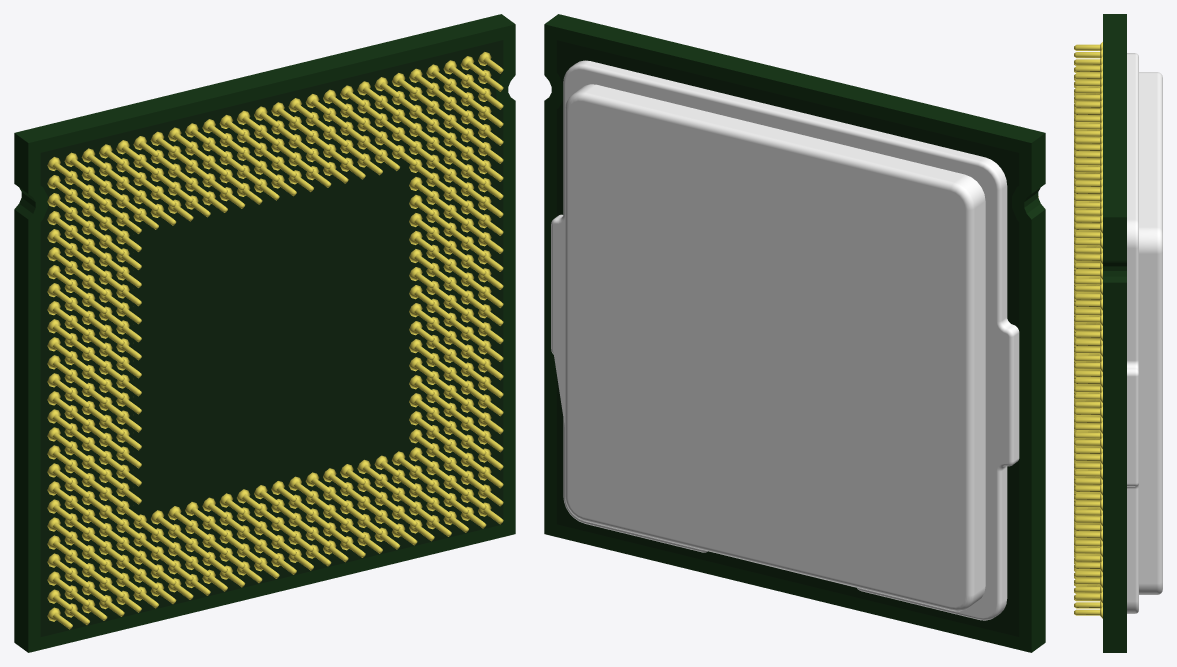
File: Chip.fbx
The picture shows the model from 3 angles, left to right: view 1: azimuth 30°, elevation 25°; view 2: azimuth 150°, elevation 25°; view 3: azimuth 270°, elevation 25°; orthographic projection. The views are drawn at different scales.
Visible parts, largest first — view 1: Cube.008, Cube.005; view 2: Cube.007, Cube.008; view 3: Cube.007, Cube.005, Cube.008.
Part boxes in pixels (bbox=[...]): Cube.008: bbox=[14, 14, 515, 652]; Cube.005: bbox=[47, 52, 503, 629]; Cube.007: bbox=[551, 60, 1019, 620]; Cube.008: bbox=[544, 14, 1045, 652]; Cube.007: bbox=[1127, 53, 1162, 613]; Cube.005: bbox=[1074, 42, 1102, 618]; Cube.008: bbox=[1103, 14, 1126, 652].
Bounding box in the file's own units: 200 × 200 × 37.
